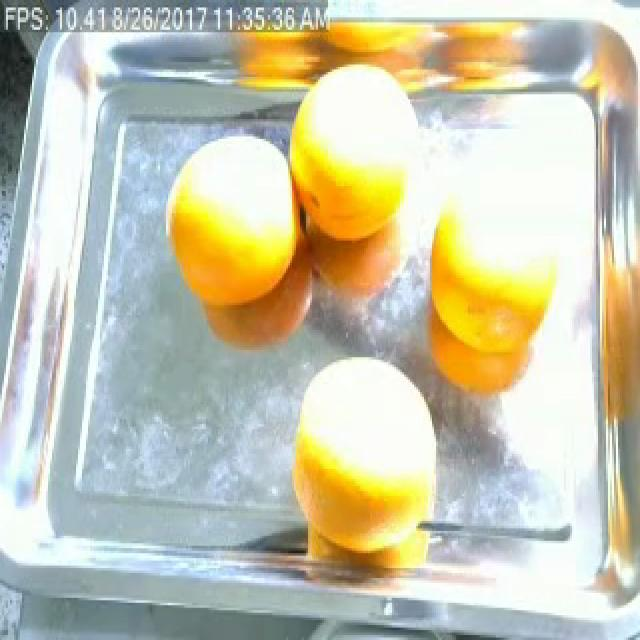Fruit: (148, 117, 310, 325)
